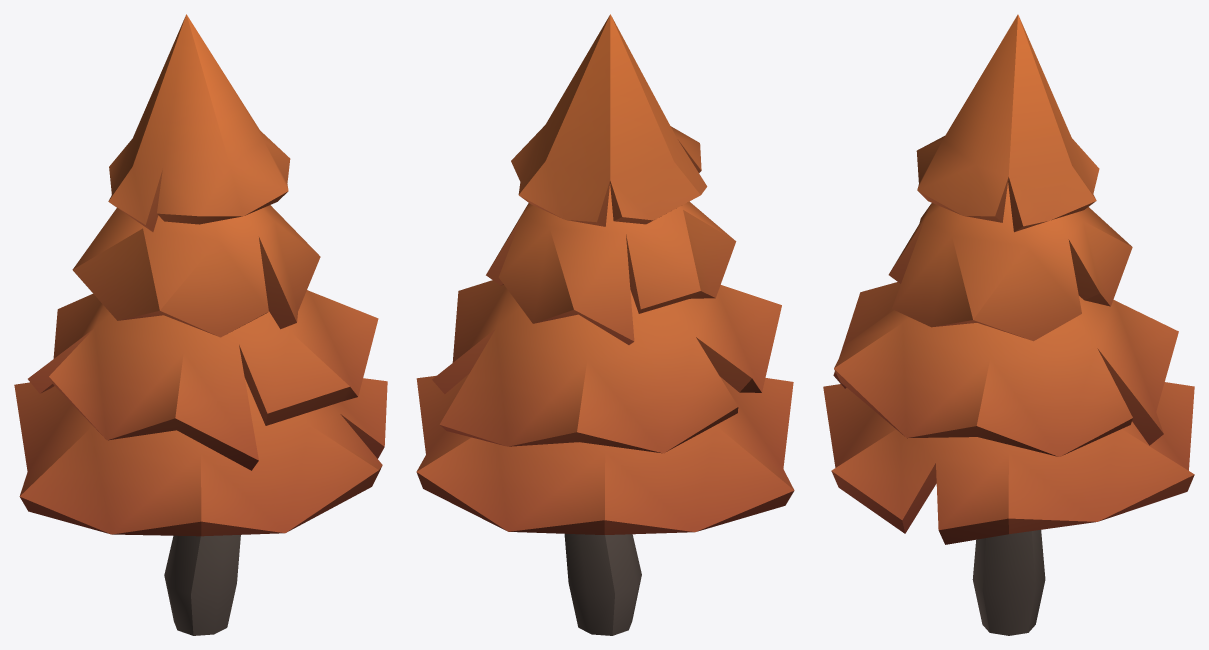
File: hw-tree_pine_orange_large.glb
The picture shows the model from 3 angles, left to right: view 1: azimuth 30°, elevation 25°; view 2: azimuth 150°, elevation 25°; view 3: azimuth 270°, elevation 25°; orthographic projection.
Parts seen in each view (by area): view 1: tree_pine_orange_large; view 2: tree_pine_orange_large; view 3: tree_pine_orange_large.
Part boxes in pixels (x1=…): tree_pine_orange_large: x1=14, y1=14, x2=387, y2=635; tree_pine_orange_large: x1=416, y1=14, x2=794, y2=635; tree_pine_orange_large: x1=823, y1=14, x2=1194, y2=635.
Bounding box in the file's own units: 4.76 × 7.48 × 4.15.
Materials: 1 (1 with a texture image).
